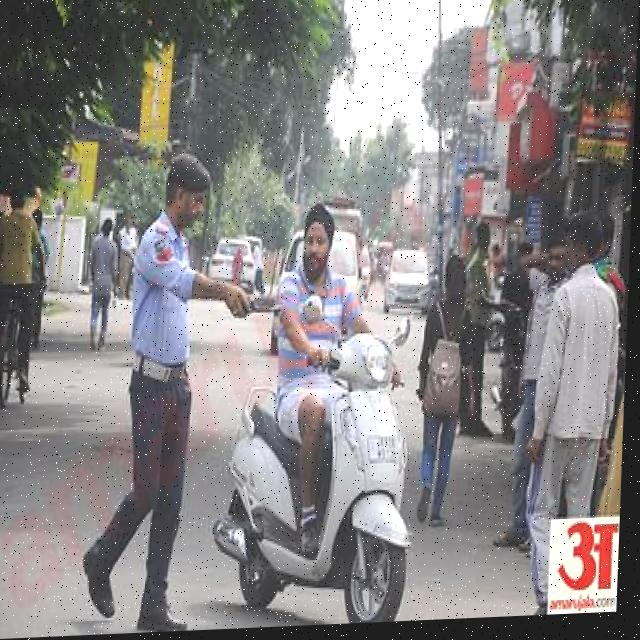plate: (368, 433, 407, 472)
